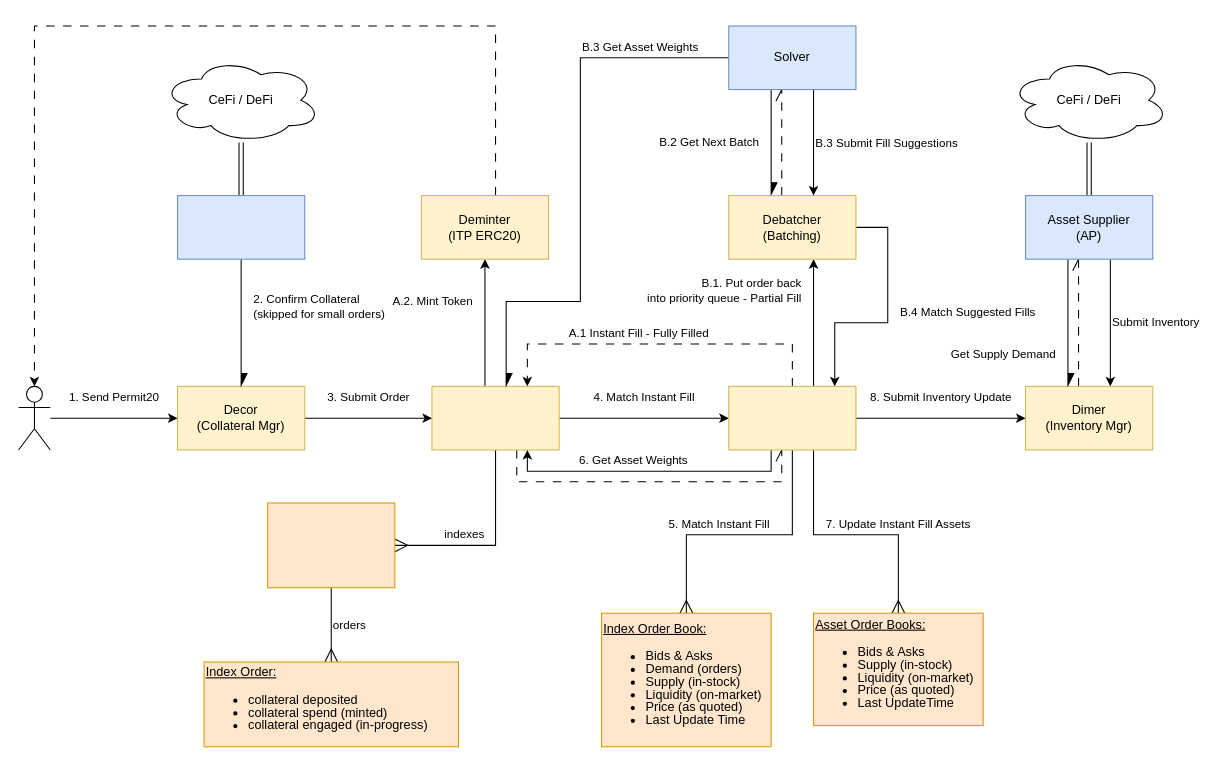
The diagram is 1219 pixels wide and 765 high, and some of its shapes have lost their labels. Each missing label, with the centre of its shape:
Actor: the point at 33,417
Dematcher (Matching Eng): the point at 792,417
Dior (Index Order Mgr): the point at 495,417
Index: owner assets weights: the point at 331,545
RPC Relayer (Collateral Routing): the point at 240,227
